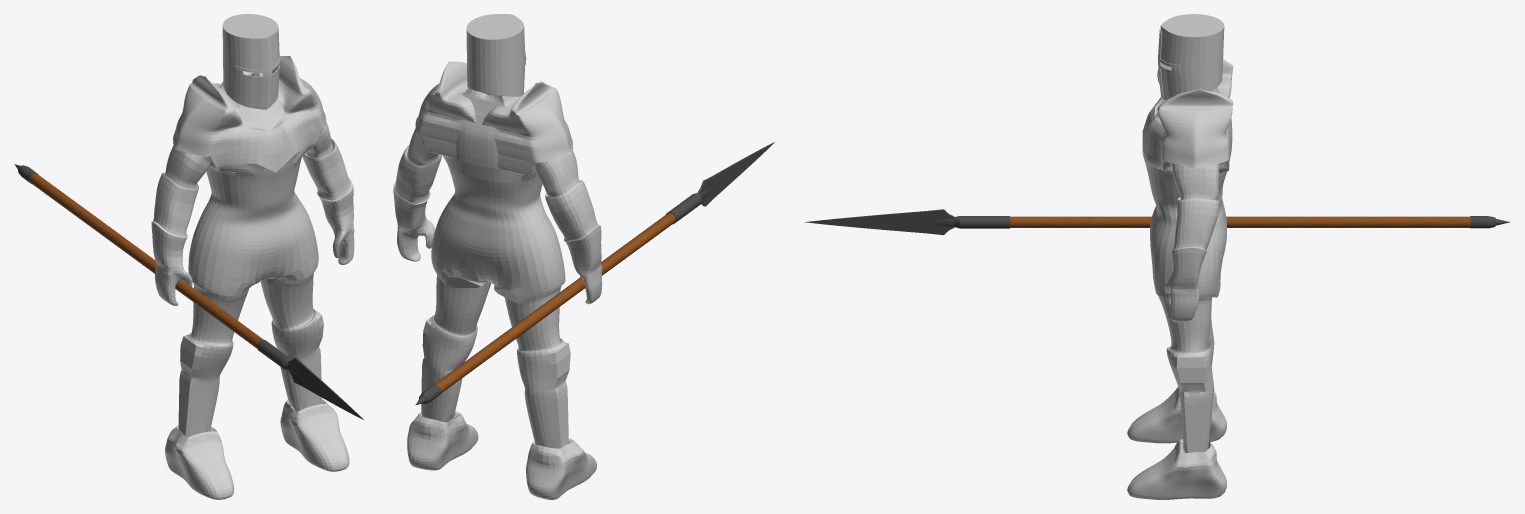
Rendered from DistanceGuardian2.fbx.
3 views of the same model, side by side, from view 1: azimuth 30°, elevation 25°; view 2: azimuth 150°, elevation 25°; view 3: azimuth 270°, elevation 25° (orthographic). The views are drawn at different scales.
Parts seen in each view (by area): view 1: Cube, Cube.002; view 2: Cube, Cube.002; view 3: Cube, Cube.002.
Part boxes in pixels (bbox=[...]): Cube: bbox=[151, 14, 354, 499]; Cube.002: bbox=[14, 164, 363, 419]; Cube: bbox=[393, 14, 602, 499]; Cube.002: bbox=[415, 142, 774, 405]; Cube: bbox=[1127, 14, 1233, 499]; Cube.002: bbox=[804, 209, 1510, 235].
Bounding box in the file's own units: 88.82 × 190 × 277.
